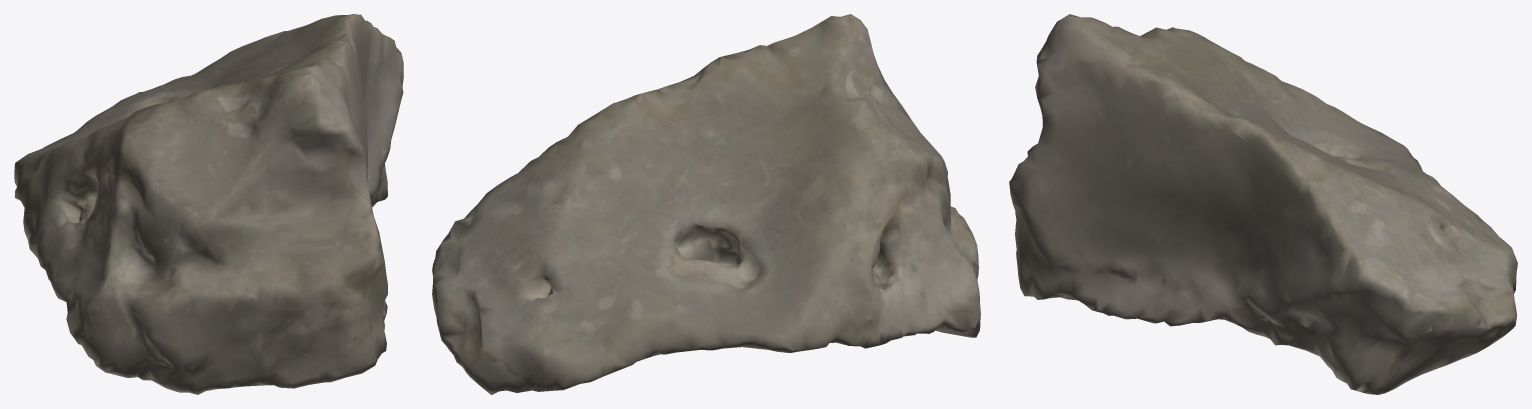
Rendered from moonrock2.glb.
3 views of the same model, side by side, from view 1: azimuth 30°, elevation 25°; view 2: azimuth 150°, elevation 25°; view 3: azimuth 270°, elevation 25° (orthographic). The views are drawn at different scales.
Visible parts, largest first — view 1: moon_rock_06_LOD0; view 2: moon_rock_06_LOD0; view 3: moon_rock_06_LOD0.
Boxes of the visible parts, x1=… form: moon_rock_06_LOD0: x1=14, y1=14, x2=403, y2=394; moon_rock_06_LOD0: x1=432, y1=14, x2=980, y2=394; moon_rock_06_LOD0: x1=1009, y1=14, x2=1517, y2=394.
Size of the model in its own units: 0.0857 by 0.055 by 0.0918.
1 material, 1 textured.
